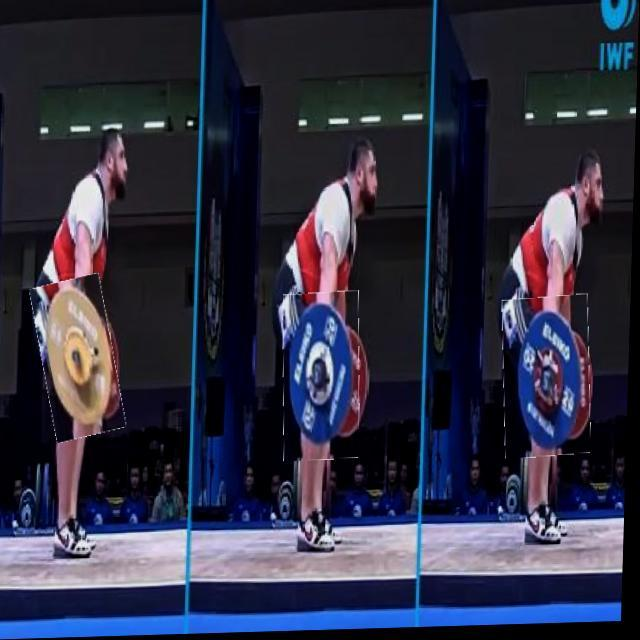barbell: (503, 299, 596, 462), (37, 277, 127, 443), (284, 294, 365, 464)
